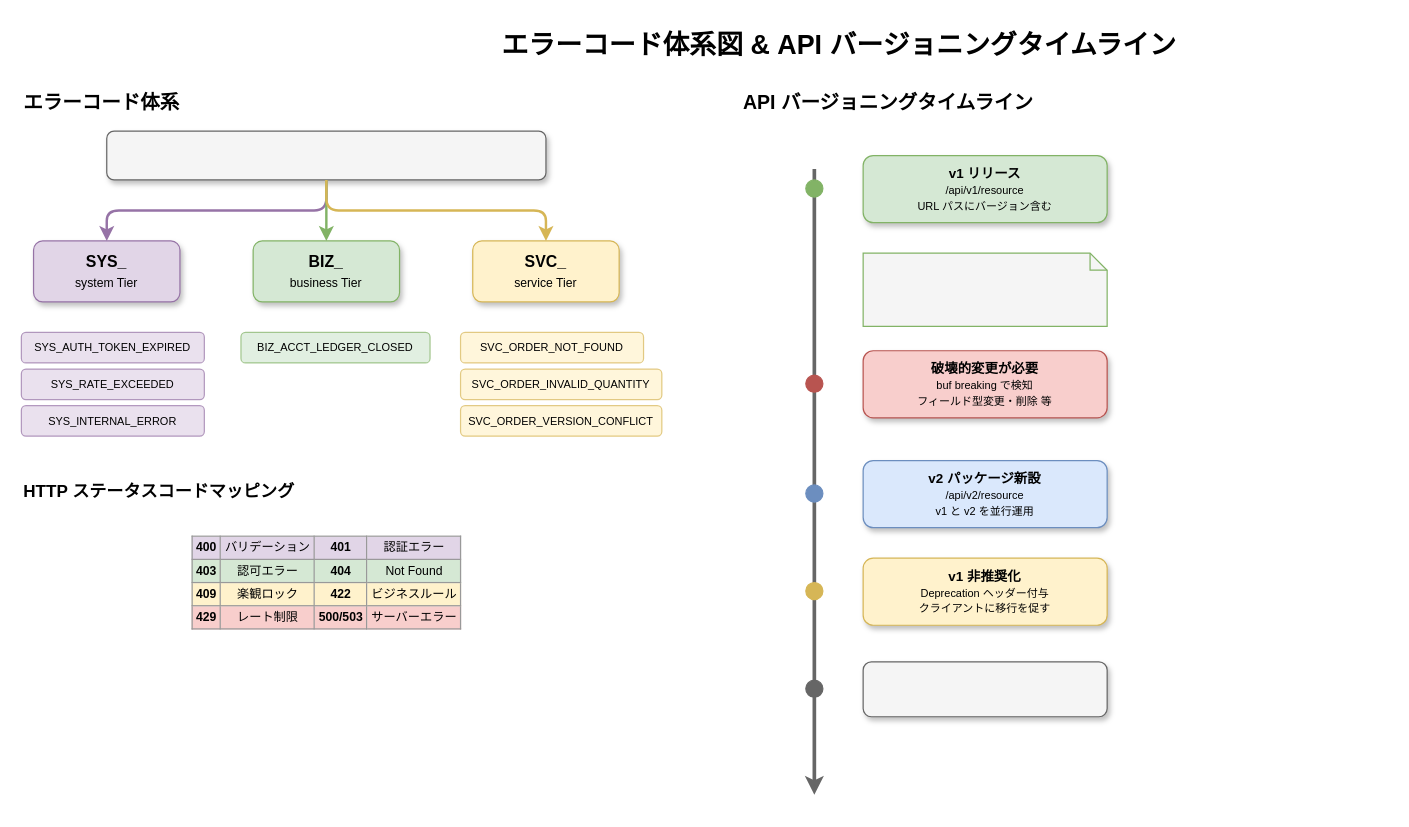
The diagram is 1409 pixels wide and 827 high, and some of its shapes have lost their labels. The shapes that lost their labels are listed below. From the top down, each one's centre as x and y in pixels, then its label:
At [327,156]: "{TIER}_{DOMAIN}_{ERROR_NAME}".
At [984,289]: "フィールド追加 OK enum 値追加 OK オプショナルフィールド追加 OK".
At [985,690]: "v1 廃止 6ヶ月の移行期間後に削除".
